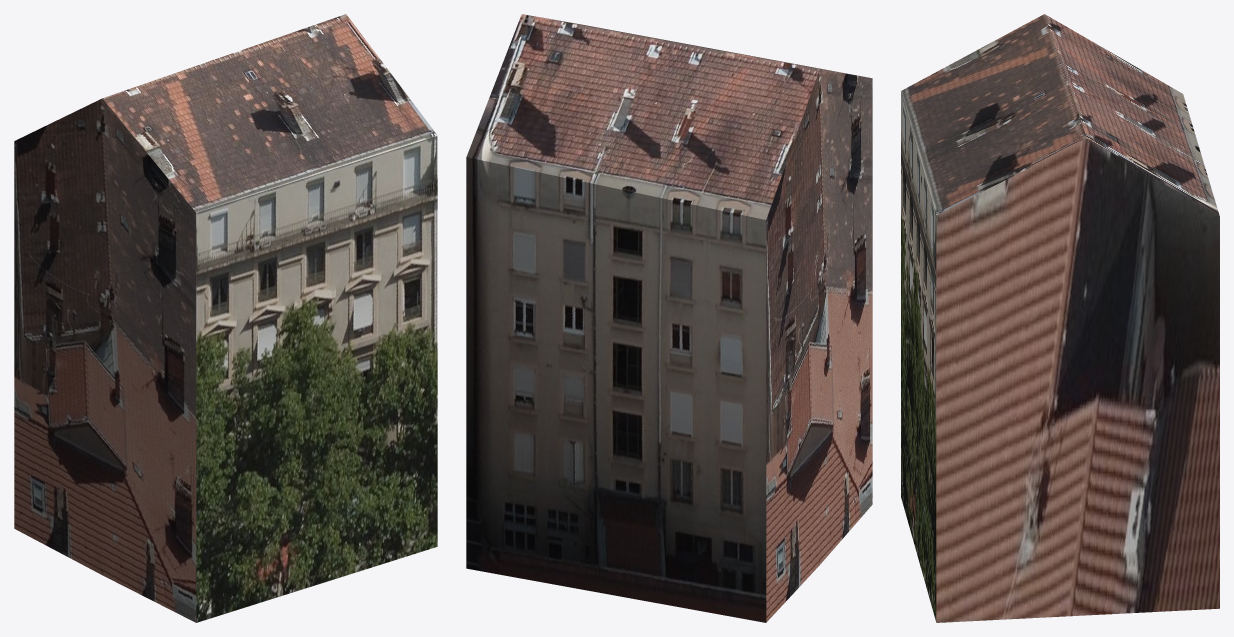
3 renders of one model, left to right at view 1: azimuth 30°, elevation 25°; view 2: azimuth 150°, elevation 25°; view 3: azimuth 270°, elevation 25°, orthographic. The views are drawn at different scales.
Parts seen in each view (by area): view 1: Z_UP; view 2: Z_UP; view 3: Z_UP.
Boxes of the visible parts, <box> form: Z_UP: <box>14,14,437,622</box>; Z_UP: <box>466,14,872,622</box>; Z_UP: <box>901,14,1219,622</box>.
Bounding box in the file's own units: 17.93 × 27.55 × 16.68.
2 materials, 1 textured.
